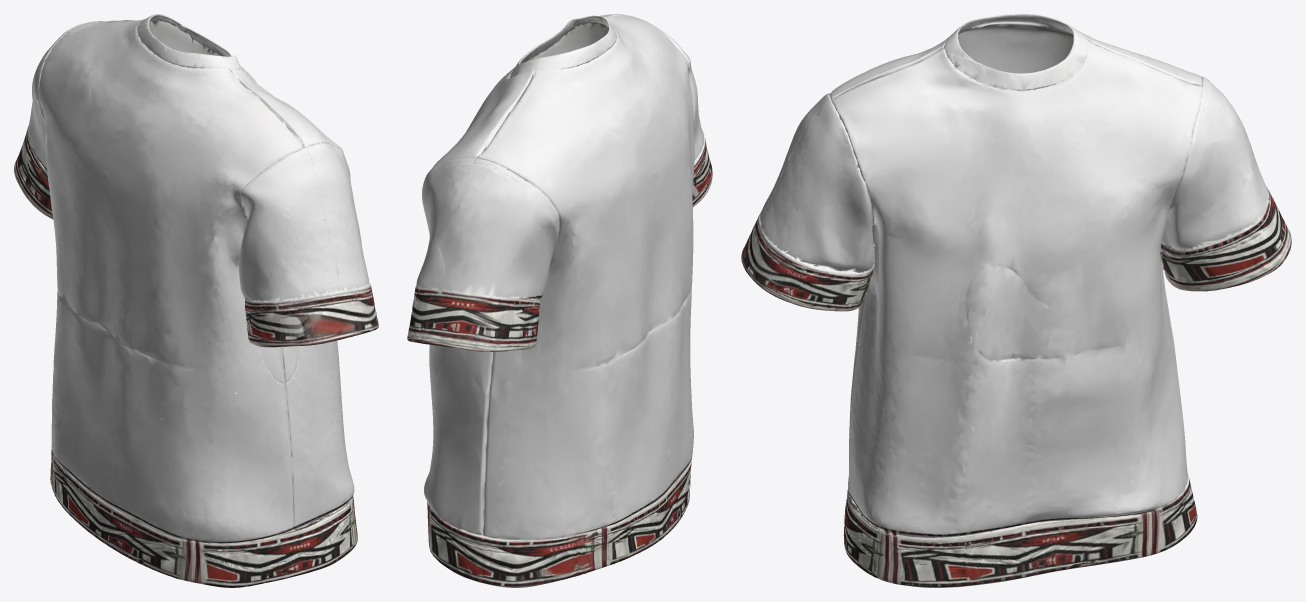
File: deer.glb
3 renders of one model, left to right at view 1: azimuth 30°, elevation 25°; view 2: azimuth 150°, elevation 25°; view 3: azimuth 270°, elevation 25°, orthographic.
Parts seen in each view (by area): view 1: tripo_node_2e8fe1f0-8e5b-48ea-8486-b0d4cfb1dbed; view 2: tripo_node_2e8fe1f0-8e5b-48ea-8486-b0d4cfb1dbed; view 3: tripo_node_2e8fe1f0-8e5b-48ea-8486-b0d4cfb1dbed.
Boxes of the visible parts, bbox=[...] form: tripo_node_2e8fe1f0-8e5b-48ea-8486-b0d4cfb1dbed: bbox=[14, 14, 378, 587]; tripo_node_2e8fe1f0-8e5b-48ea-8486-b0d4cfb1dbed: bbox=[407, 14, 712, 587]; tripo_node_2e8fe1f0-8e5b-48ea-8486-b0d4cfb1dbed: bbox=[741, 14, 1291, 587].
Bounding box in the file's own units: 0.44 × 0.9803 × 0.9646.
Materials: 1 (1 with a texture image).
